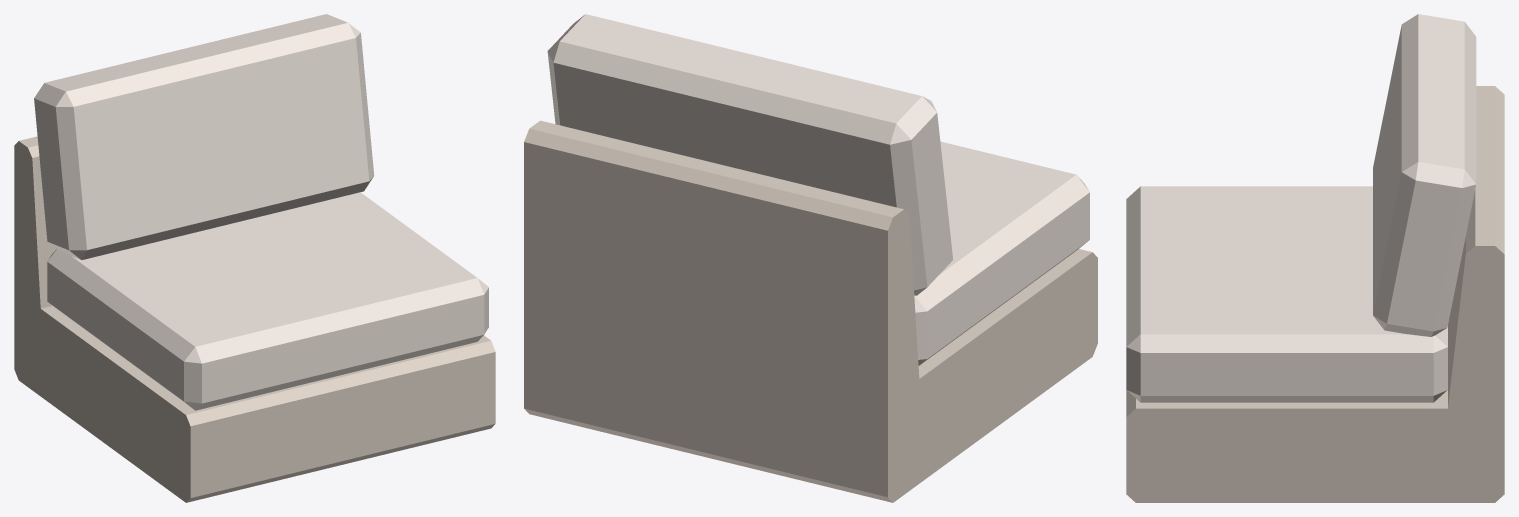
Rendered from Prop_Living_Room_Modular_Couch_Center.glb.
The picture shows the model from 3 angles, left to right: view 1: azimuth 30°, elevation 25°; view 2: azimuth 150°, elevation 25°; view 3: azimuth 270°, elevation 25°; orthographic projection. The views are drawn at different scales.
Parts seen in each view (by area): view 1: Prop_Living_Room_Modular_Couch_Center; view 2: Prop_Living_Room_Modular_Couch_Center; view 3: Prop_Living_Room_Modular_Couch_Center.
Part boxes in pixels (box(x1,y1,x2,y2)): Prop_Living_Room_Modular_Couch_Center: box(14, 14, 495, 502); Prop_Living_Room_Modular_Couch_Center: box(524, 14, 1097, 502); Prop_Living_Room_Modular_Couch_Center: box(1126, 14, 1504, 502).
Size of the model in its own units: 1 by 0.9777 by 1.
